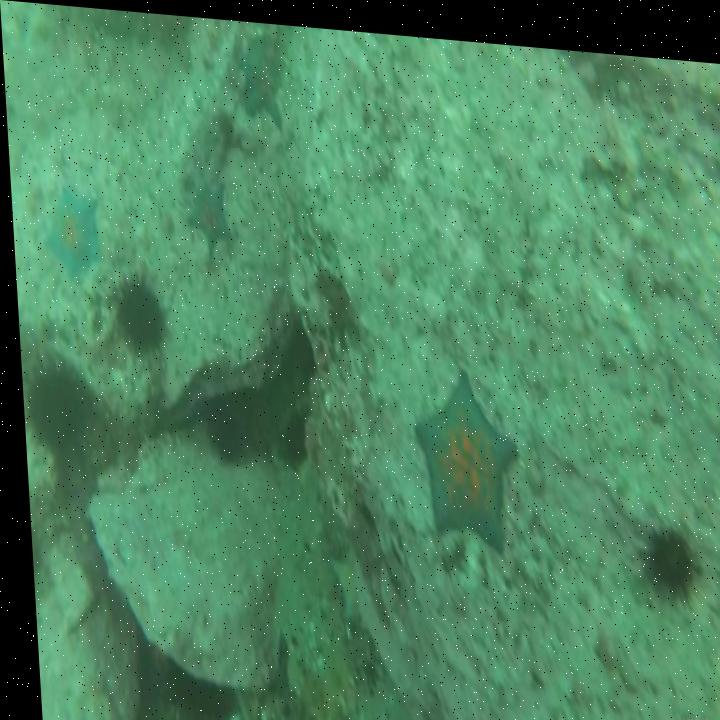echinus: (22, 369, 86, 440), (639, 518, 686, 581), (112, 286, 159, 348), (273, 407, 307, 461), (200, 406, 234, 456)
holothurian: (294, 637, 346, 720)
starfish: (407, 358, 515, 547), (38, 185, 99, 275), (240, 41, 283, 121), (184, 183, 230, 248)
